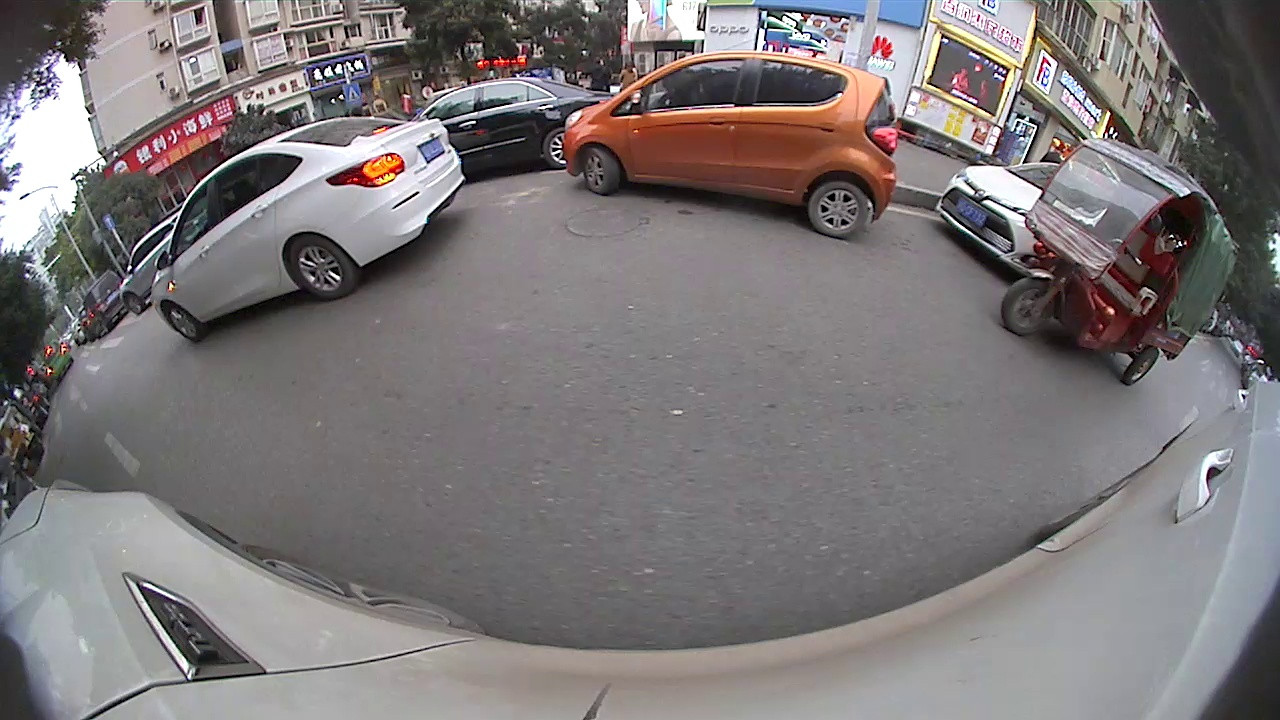car: (149, 113, 467, 346), (561, 48, 903, 240), (410, 73, 618, 186), (933, 158, 1087, 279)
front: (1004, 271, 1057, 336), (576, 142, 628, 196), (157, 300, 207, 342)
rear: (286, 236, 358, 302), (807, 180, 875, 237), (1116, 335, 1162, 387)
rider: (998, 136, 1238, 389)
